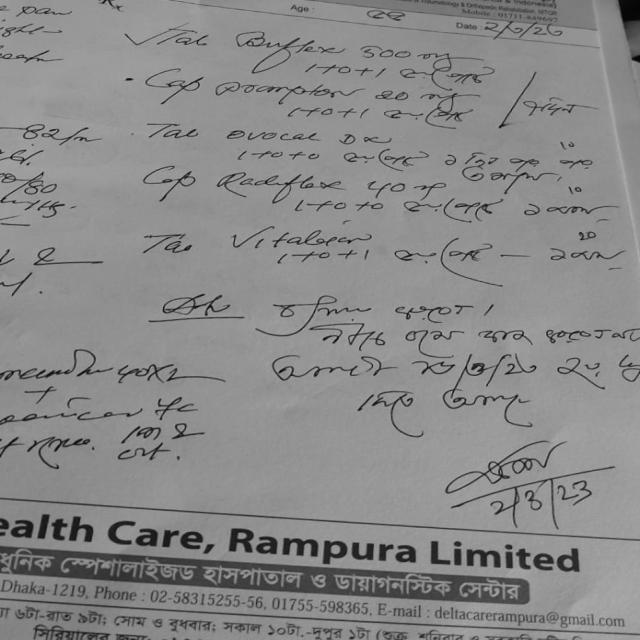medicine: (217, 120, 403, 150), (229, 222, 374, 258), (209, 166, 358, 196), (228, 23, 344, 61), (210, 74, 364, 101)
